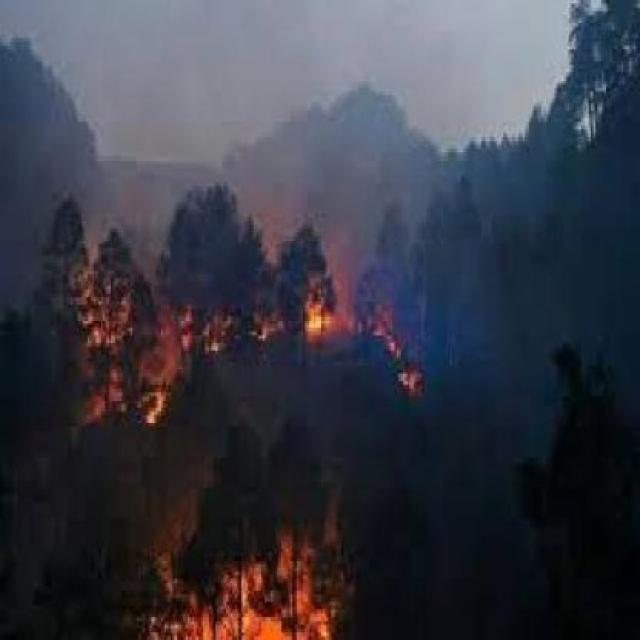Fire: (62, 226, 406, 431), (70, 504, 366, 640)
